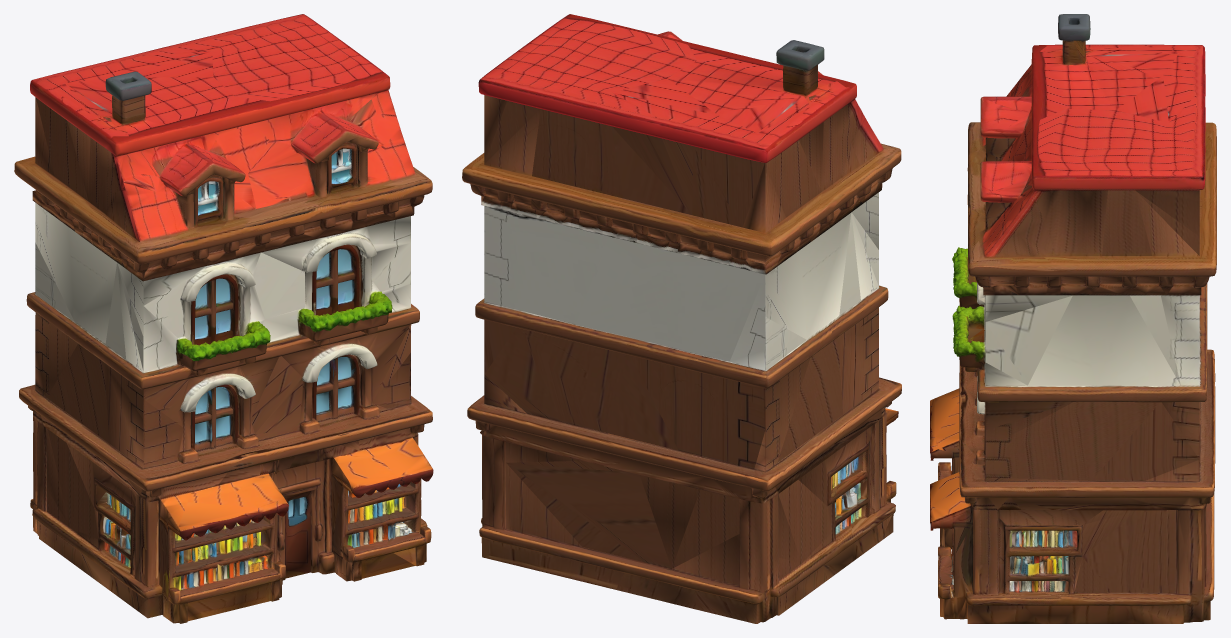
Rendered from bibliotheque.glb.
3 renders of one model, left to right at view 1: azimuth 30°, elevation 25°; view 2: azimuth 150°, elevation 25°; view 3: azimuth 270°, elevation 25°, orthographic. The views are drawn at different scales.
Parts seen in each view (by area): view 1: Mesh_0; view 2: Mesh_0; view 3: Mesh_0.
Part boxes in pixels (x1,y1,x2,y2): Mesh_0: (14,14,433,623); Mesh_0: (462,14,901,623); Mesh_0: (930,14,1216,623).
Bounding box in the file's own units: 1.2 × 1.9 × 1.02.
Materials: 1 (1 with a texture image).
